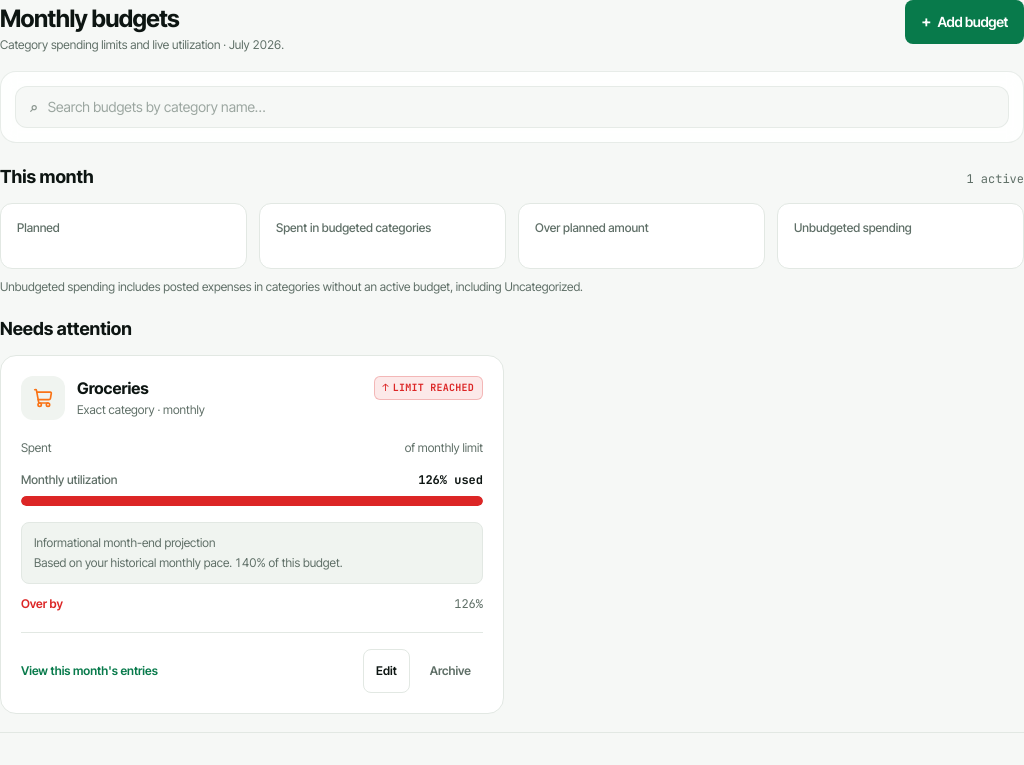
Test: BudgetsPage › confirms that archiving leaves transactions unchanged
Click the button "Archive".
click(450, 670)  # box [418,648,483,692]
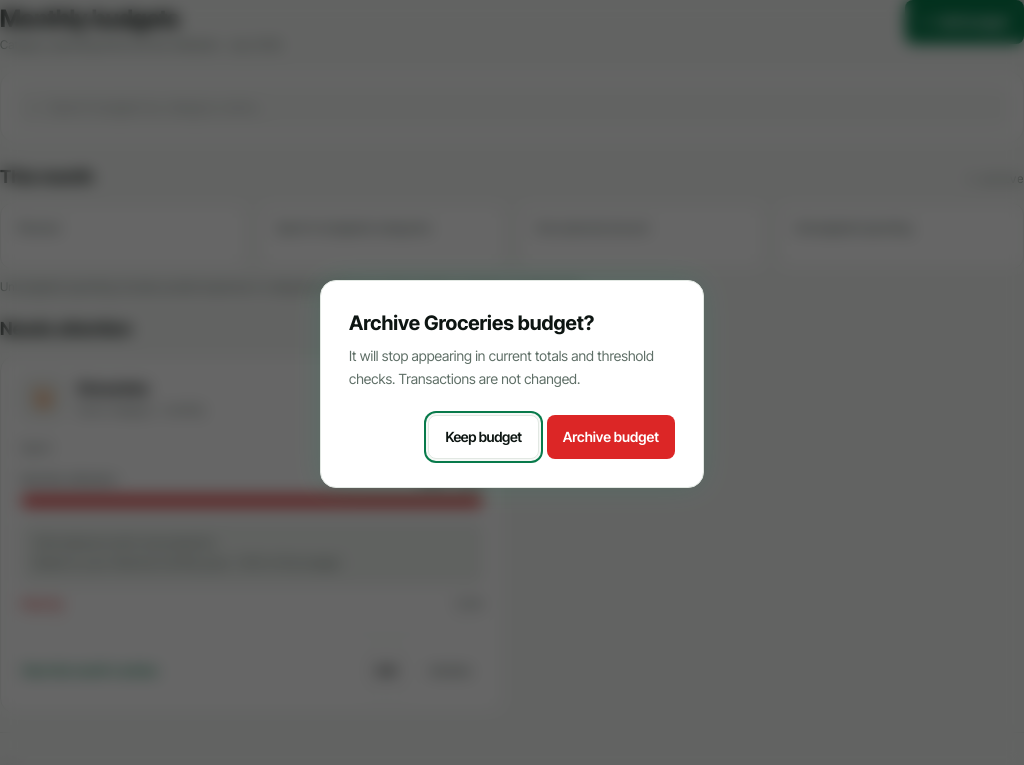
Expected: the dialog is shown, [320,280,704,488]
Expected: the text "Transactions are not changed" is shown, [349,347,654,387]
